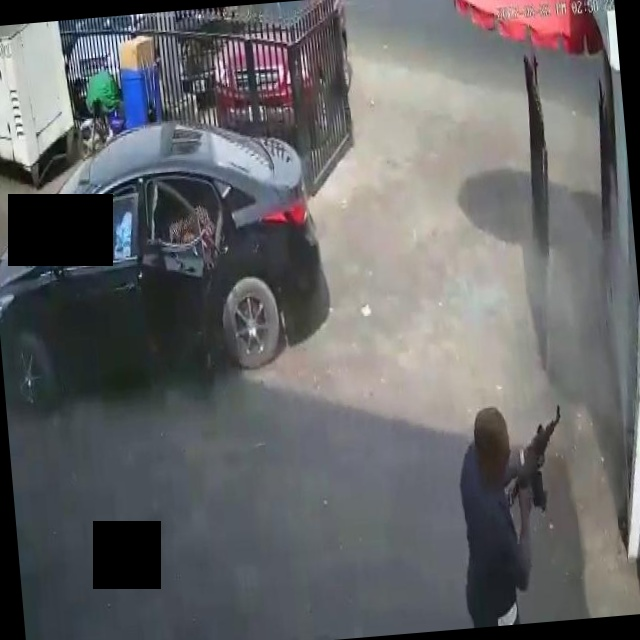gun: (495, 393, 579, 526)
